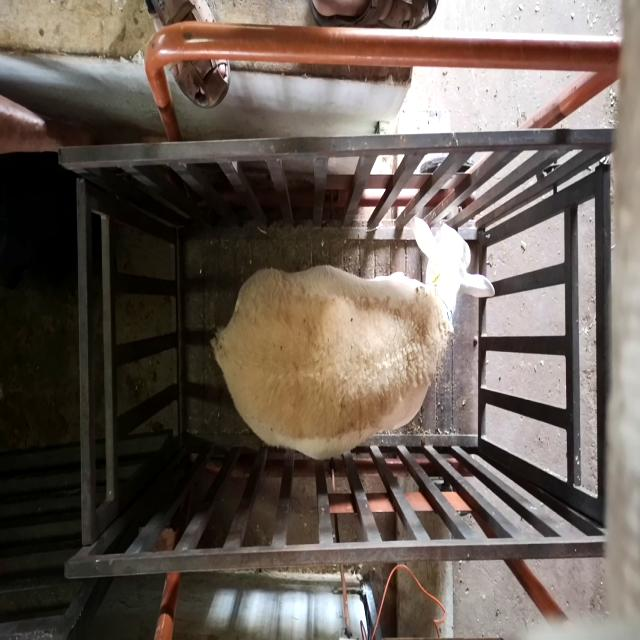sheep: (210, 217, 496, 462)
